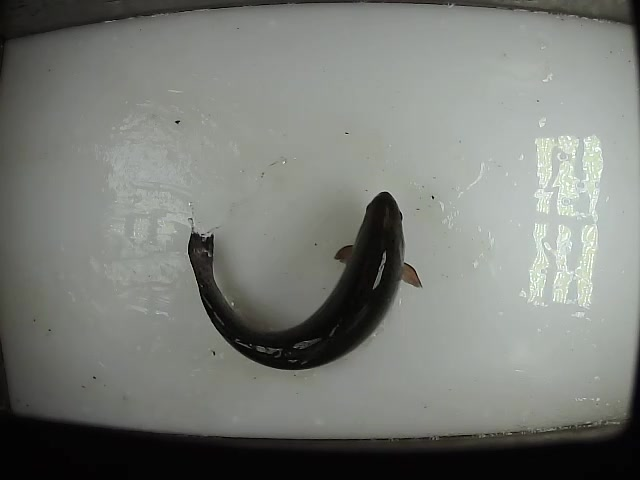fish: (185, 190, 427, 373)
